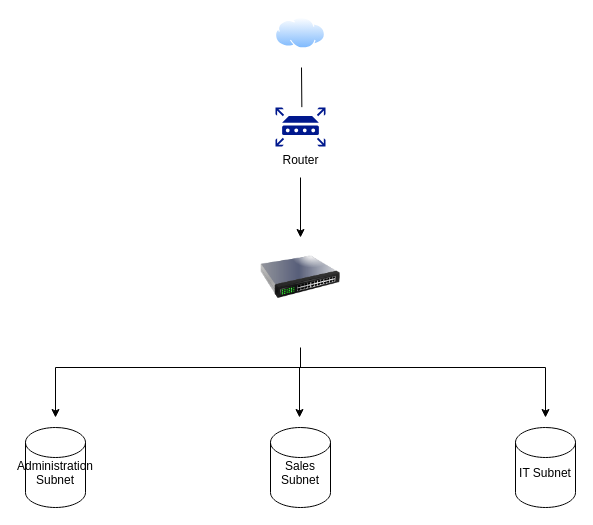
Image size: 593x525. Some labels were removed from this diagram. Each missing label, with the centre of its shape:
Internet: (300,32)
Switch: (300,277)
